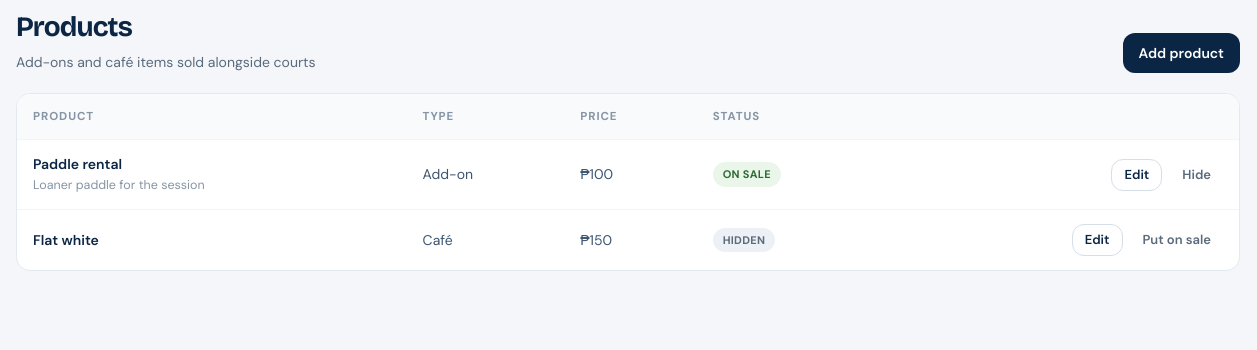
Test: ProductsScreen — editing a product › shows why a refused change did not take effect
Step 1. Click the button "Hide" → (1197, 175), box [1170,159,1223,191]
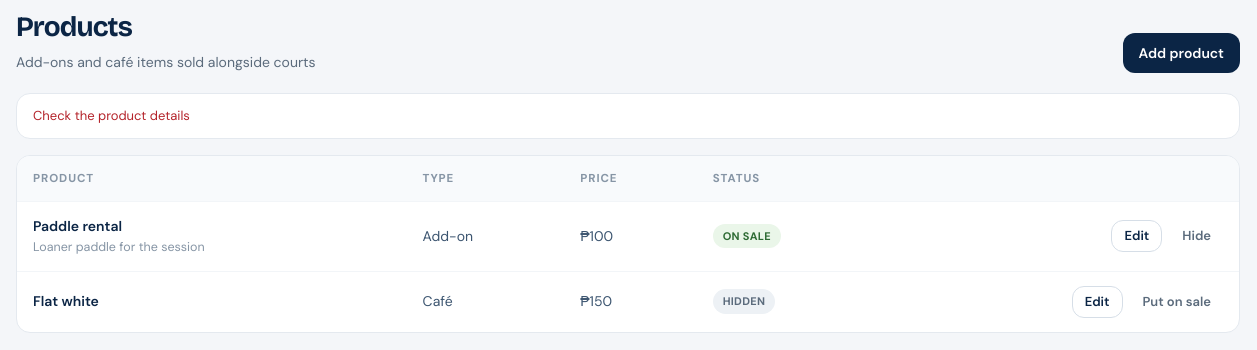
Now the message shows "product details", box [33,107,190,124]
